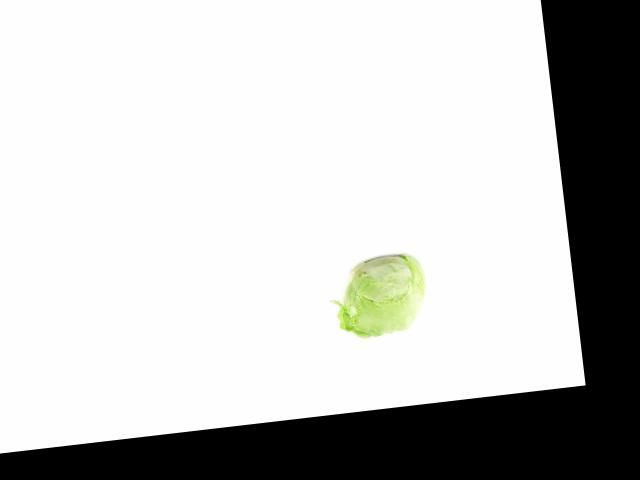lettuce: (334, 247, 434, 344)
